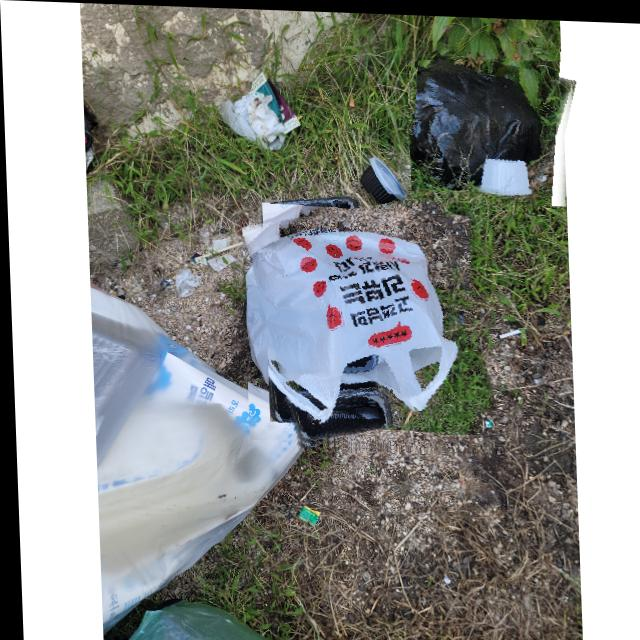other_trashbag: (240, 193, 494, 442), (409, 41, 573, 201)
